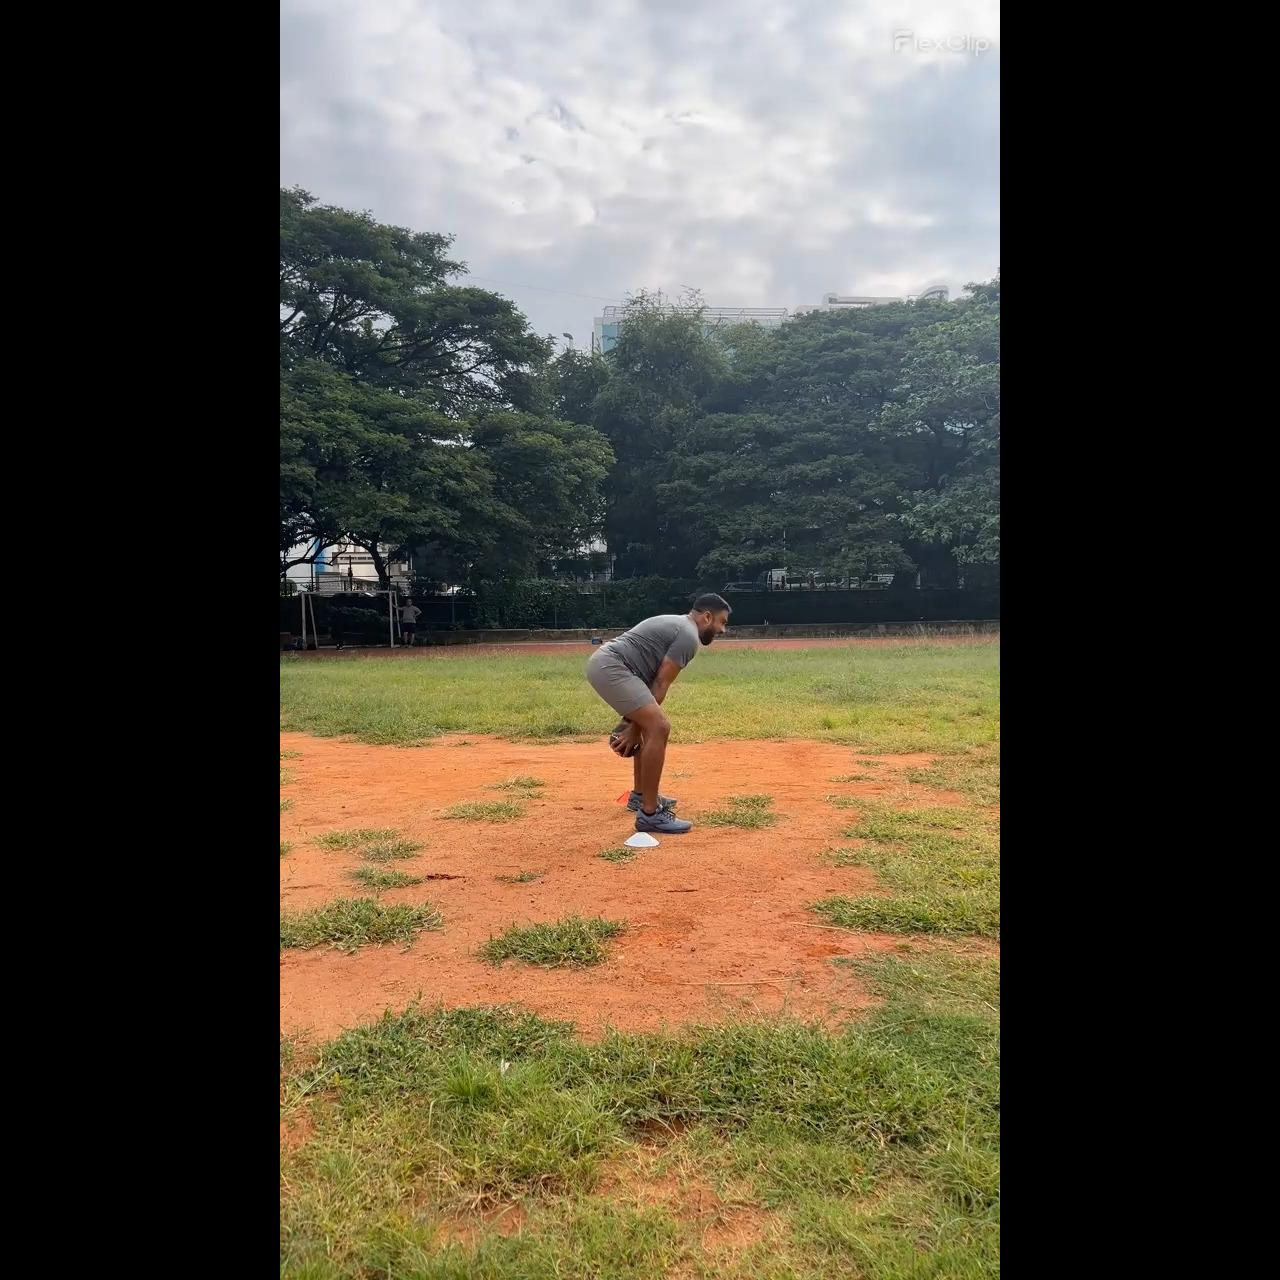Athelete: (579, 594, 733, 835)
